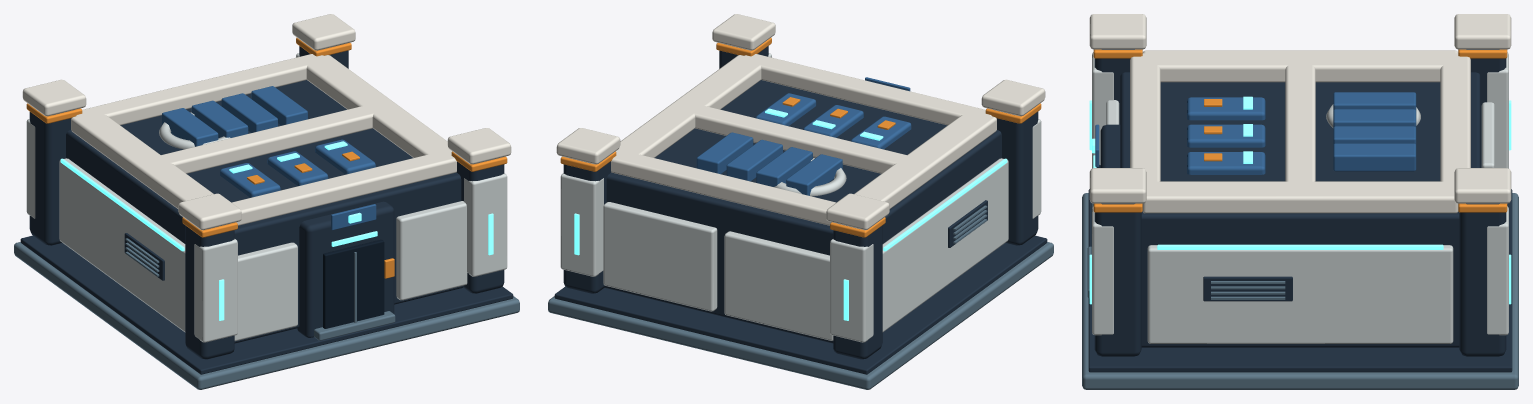
File: academy.glb
3 renders of one model, left to right at view 1: azimuth 30°, elevation 25°; view 2: azimuth 150°, elevation 25°; view 3: azimuth 270°, elevation 25°, orthographic. The views are drawn at different scales.
Parts seen in each view (by area): view 1: inner-volume, foundation-inlay, side-wall--1, foundation-4-by-4, front-panel-1, roof-cross-1.42, roof-cross-0, roof-cross--1.42, front-panel--1, door-frame, roof-rail-1, roof-rail--1 (+24 smaller); view 2: inner-volume, foundation-inlay, rear-panel-1, side-wall--1, rear-panel--1, foundation-4-by-4, roof-cross--1.42, roof-cross-1.42, roof-cross-0, roof-rail-1, roof-rail--1, corner-shell-1.67--1.67 (+20 smaller); view 3: inner-volume, side-wall-1, foundation-inlay, foundation-4-by-4, roof-rail-1, roof-rail--1, corner-1.67--1.67, corner-1.67-1.67, roof-cross-0, roof-cross-1.42, roof-cross--1.42, corner-shell-1.67--1.67 (+24 smaller).
Part boxes in pixels (<box>): inner-volume: <box>66,80,462,343</box>; foundation-inlay: <box>20,235,513,374</box>; side-wall--1: <box>59,158,185,332</box>; foundation-4-by-4: <box>14,242,519,389</box>; front-panel-1: <box>396,201,467,300</box>; roof-cross-1.42: <box>232,153,456,225</box>; roof-cross-0: <box>141,101,393,173</box>; roof-cross--1.42: <box>76,54,327,125</box>; front-panel--1: <box>234,242,297,341</box>; door-frame: <box>297,201,394,337</box>; roof-rail-1: <box>304,55,451,157</box>; roof-rail--1: <box>71,111,213,208</box>; inner-volume: <box>605,80,1001,343</box>; foundation-inlay: <box>554,235,1047,374</box>; rear-panel-1: <box>603,202,717,311</box>; side-wall--1: <box>882,158,1008,332</box>; rear-panel--1: <box>724,231,833,340</box>; foundation-4-by-4: <box>548,242,1053,389</box>; roof-cross--1.42: <box>611,153,835,225</box>; roof-cross-1.42: <box>740,54,991,125</box>; roof-cross-0: <box>674,101,925,173</box>; roof-rail-1: <box>616,55,764,157</box>; roof-rail--1: <box>854,111,996,208</box>; corner-shell-1.67--1.67: <box>560,173,603,276</box>; inner-volume: <box>1120,72,1480,347</box>; side-wall-1: <box>1147,245,1453,343</box>; foundation-inlay: <box>1088,189,1512,372</box>; foundation-4-by-4: <box>1082,193,1518,389</box>; roof-rail-1: <box>1142,181,1458,213</box>; roof-rail--1: <box>1143,50,1457,82</box>; corner-1.67--1.67: <box>1459,203,1506,356</box>; corner-1.67-1.67: <box>1094,203,1141,356</box>; roof-cross-0: <box>1285,53,1315,189</box>; roof-cross-1.42: <box>1130,53,1160,187</box>; roof-cross--1.42: <box>1440,53,1470,186</box>; corner-shell-1.67--1.67: <box>1487,206,1508,335</box>.
Size of the model in its own units: 4 by 2 by 4.
